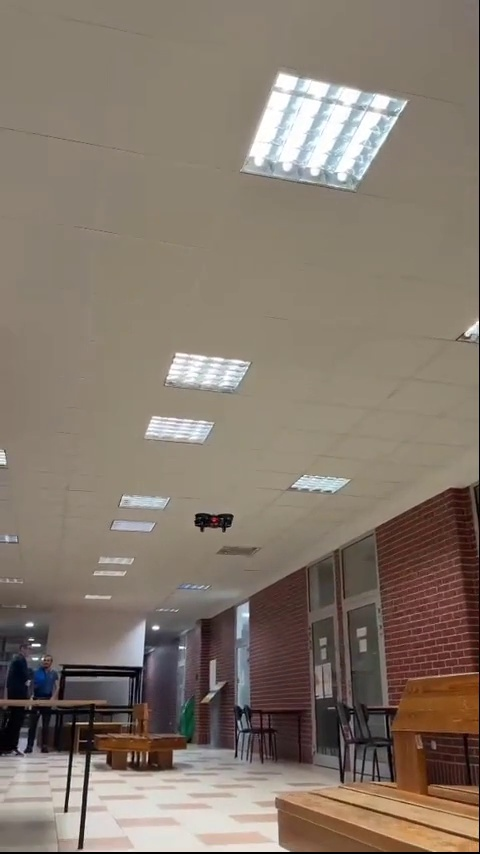drone: (189, 515, 243, 533)
no vest: (8, 644, 33, 751), (39, 655, 56, 701)
